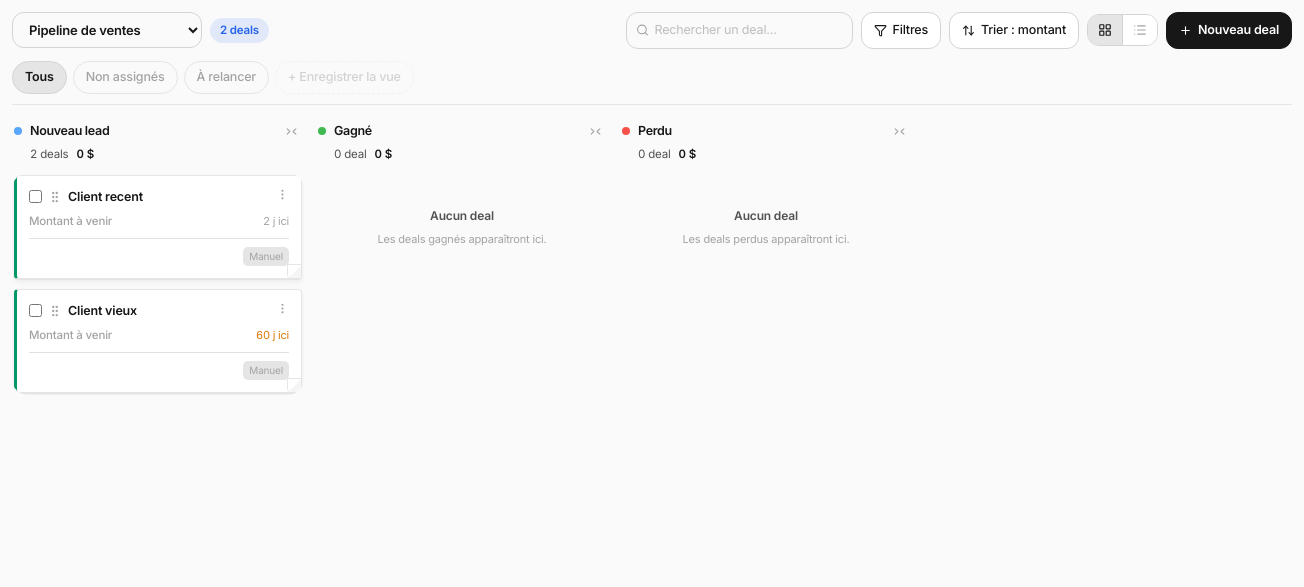
Test: board — filtres avancés › « entrés depuis » écarte les deals plus vieux que la fenêtre
The image size is (1304, 587).
Click the button "Filtres" at [901, 30], box [860,12,941,49]
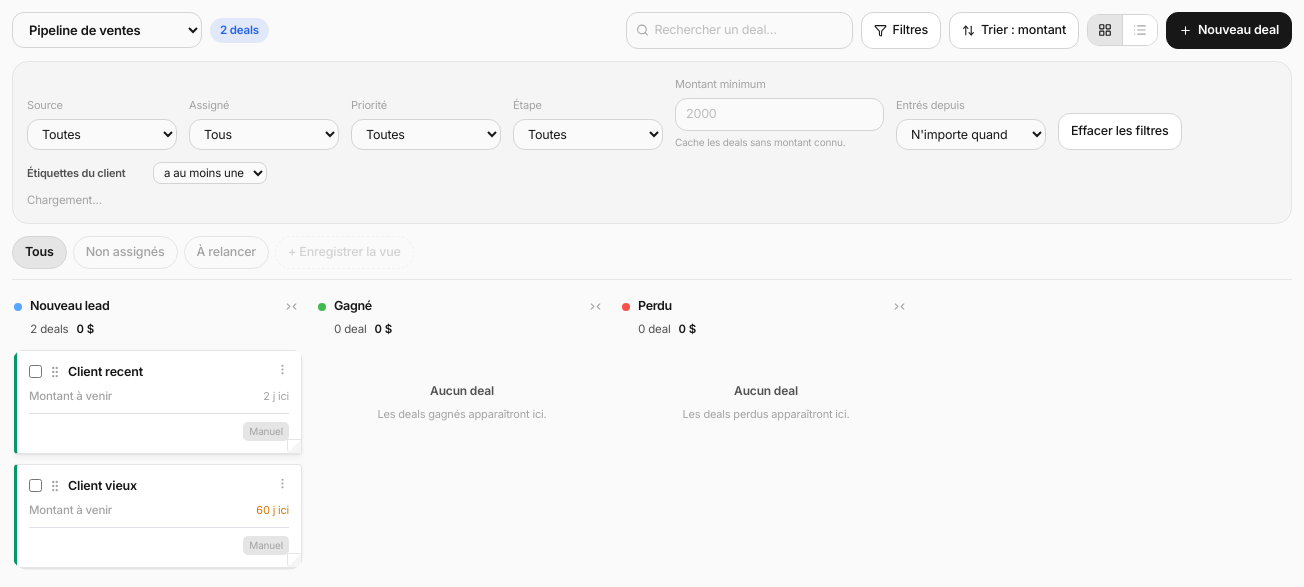
Expected: the label "Entrés depuis" is shown, [896,98,965,112]
Expected: the dropdown labelled "Entrés depuis" is shown
Select "7 derniers jours" in the dropdown labelled "Entrés depuis" at [971, 134], box [896,119,1046,150]
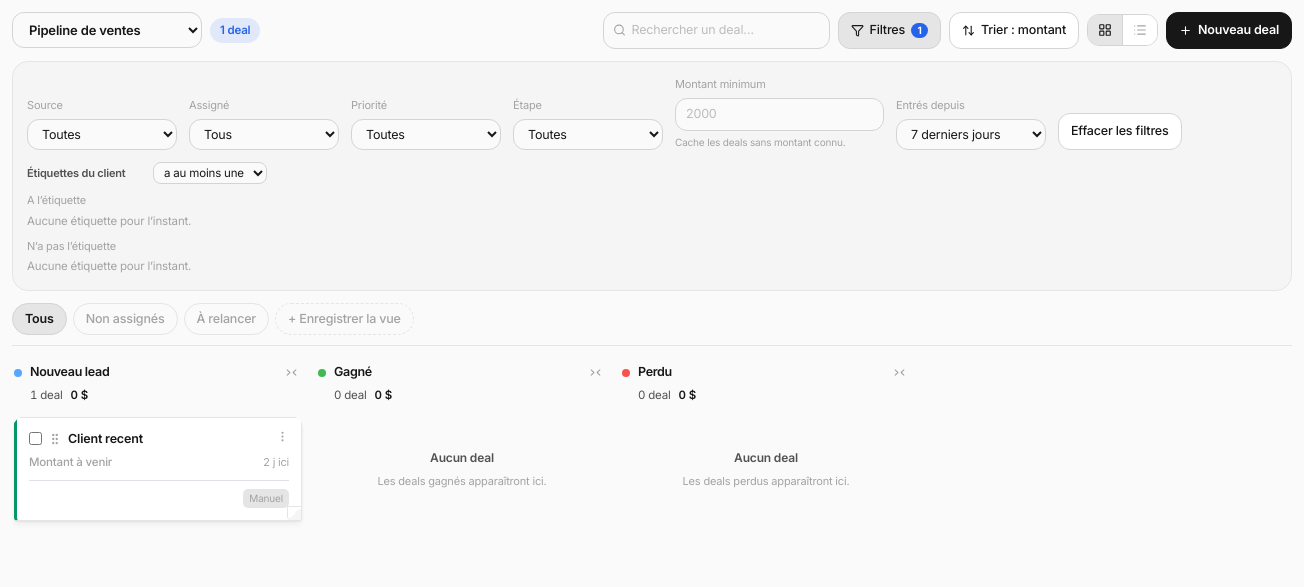
Expected: the text "recent" is shown, [68,430,143,446]
Expected: the text "vieux" is gone
